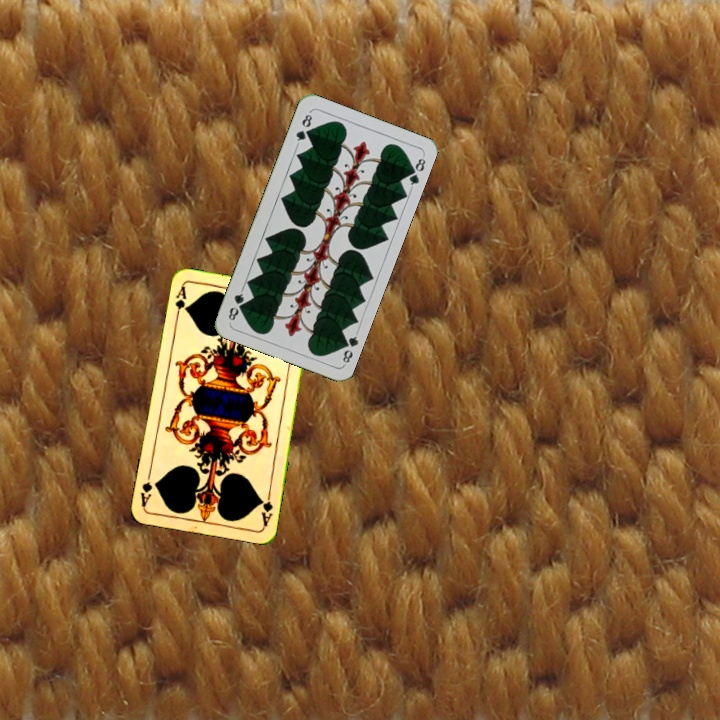G8: (337, 328, 361, 367), (292, 108, 315, 147)
GA: (257, 488, 275, 529), (171, 282, 189, 322)
